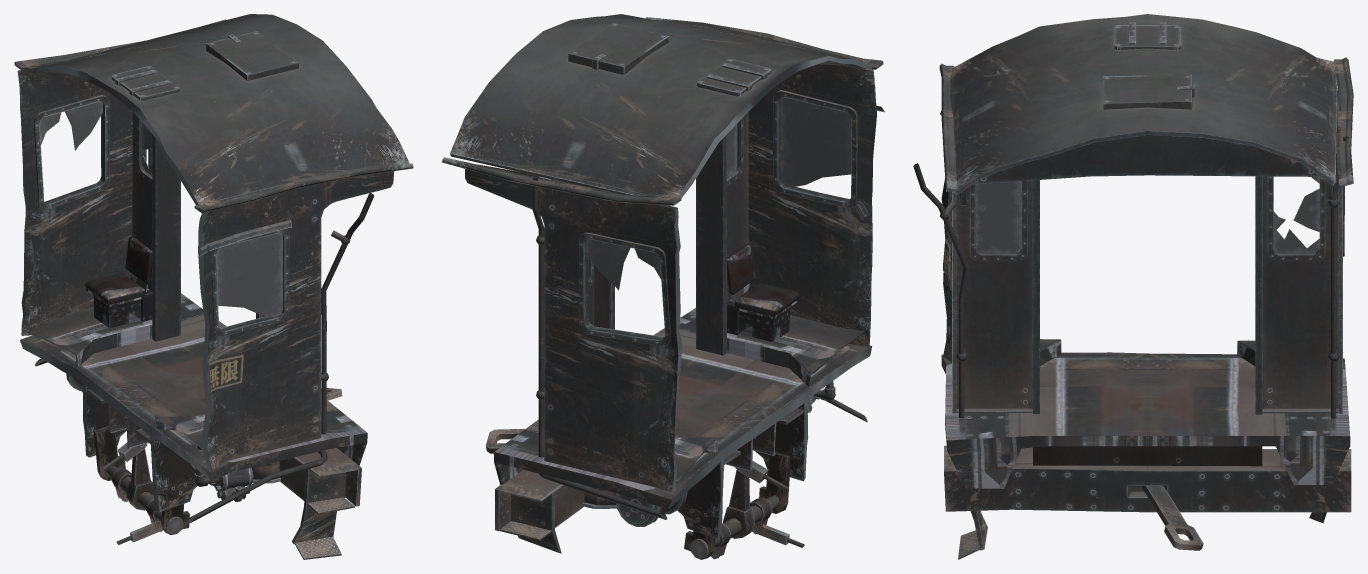
The model's file is TrainHead2.fbx.
3 views of the same model, side by side, from view 1: azimuth 30°, elevation 25°; view 2: azimuth 150°, elevation 25°; view 3: azimuth 270°, elevation 25° (orthographic). The views are drawn at different scales.
Parts seen in each view (by area): view 1: 0002_SM_d_114_BrokenLocomotive_01b, 0005_SM_d_114_BrokenLocomotive_01b, 0000_SM_d_114_BrokenLocomotive_01b, 0004_SM_d_114_BrokenLocomotive_01b, 0006_SM_d_114_BrokenLocomotive_01b, 0003_SM_d_114_BrokenLocomotive_01b, 0001_SM_d_114_BrokenLocomotive_01b; view 2: 0002_SM_d_114_BrokenLocomotive_01b, 0005_SM_d_114_BrokenLocomotive_01b, 0000_SM_d_114_BrokenLocomotive_01b, 0004_SM_d_114_BrokenLocomotive_01b, 0006_SM_d_114_BrokenLocomotive_01b, 0001_SM_d_114_BrokenLocomotive_01b, 0003_SM_d_114_BrokenLocomotive_01b; view 3: 0002_SM_d_114_BrokenLocomotive_01b, 0005_SM_d_114_BrokenLocomotive_01b, 0004_SM_d_114_BrokenLocomotive_01b, 0001_SM_d_114_BrokenLocomotive_01b, 0000_SM_d_114_BrokenLocomotive_01b, 0003_SM_d_114_BrokenLocomotive_01b.
Part boxes in pixels (box(x1,y1,x2,y2)): 0002_SM_d_114_BrokenLocomotive_01b: box(15, 14, 413, 544); 0005_SM_d_114_BrokenLocomotive_01b: box(20, 293, 367, 481); 0000_SM_d_114_BrokenLocomotive_01b: box(14, 62, 342, 542); 0004_SM_d_114_BrokenLocomotive_01b: box(39, 101, 282, 316); 0006_SM_d_114_BrokenLocomotive_01b: box(85, 236, 152, 328); 0003_SM_d_114_BrokenLocomotive_01b: box(191, 354, 354, 559); 0001_SM_d_114_BrokenLocomotive_01b: box(93, 426, 189, 534); 0002_SM_d_114_BrokenLocomotive_01b: box(442, 14, 884, 553); 0005_SM_d_114_BrokenLocomotive_01b: box(494, 308, 871, 509); 0000_SM_d_114_BrokenLocomotive_01b: box(485, 56, 883, 559); 0004_SM_d_114_BrokenLocomotive_01b: box(585, 97, 851, 290); 0006_SM_d_114_BrokenLocomotive_01b: box(727, 243, 799, 342); 0001_SM_d_114_BrokenLocomotive_01b: box(684, 452, 790, 559); 0003_SM_d_114_BrokenLocomotive_01b: box(500, 396, 820, 540); 0002_SM_d_114_BrokenLocomotive_01b: box(913, 14, 1353, 550); 0005_SM_d_114_BrokenLocomotive_01b: box(941, 339, 1350, 488); 0004_SM_d_114_BrokenLocomotive_01b: box(975, 177, 1319, 253); 0001_SM_d_114_BrokenLocomotive_01b: box(1033, 446, 1262, 466); 0000_SM_d_114_BrokenLocomotive_01b: box(1142, 485, 1203, 550); 0003_SM_d_114_BrokenLocomotive_01b: box(943, 240, 979, 559).
Size of the model in its own units: 2.81 by 4.61 by 3.86.
